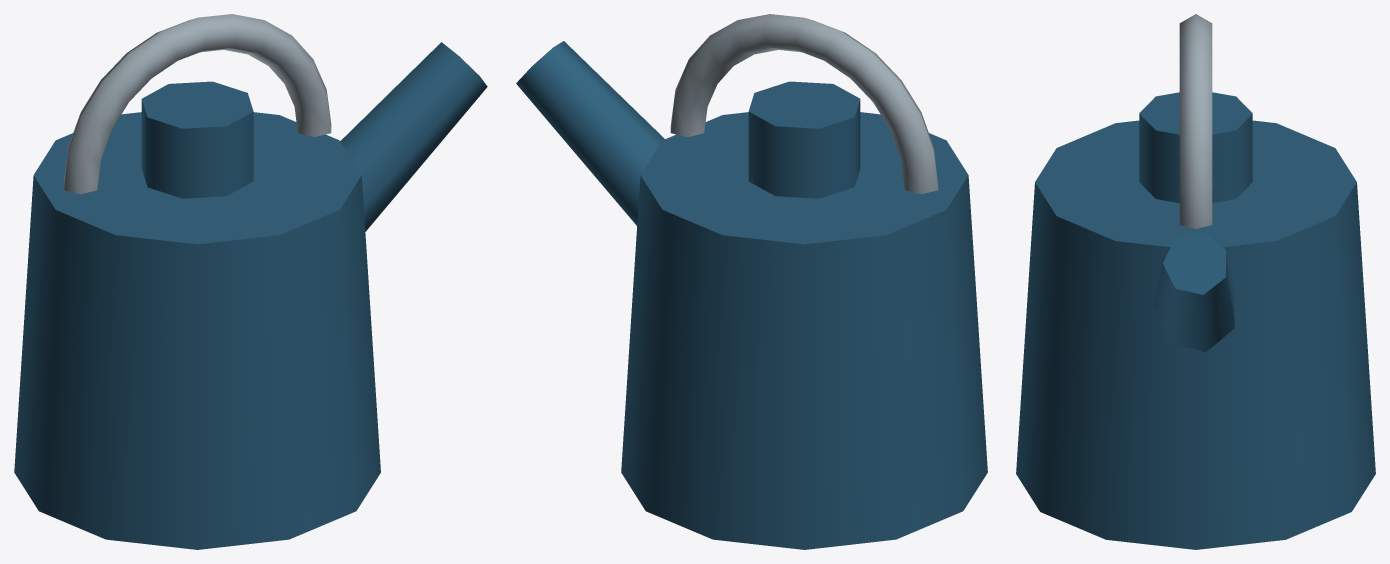
The model's file is can.glb.
3 views of the same model, side by side, from view 1: azimuth 30°, elevation 25°; view 2: azimuth 150°, elevation 25°; view 3: azimuth 270°, elevation 25° (orthographic).
Parts seen in each view (by area): view 1: can; view 2: can; view 3: can.
Part boxes in pixels (x1=…): can: x1=14, y1=14, x2=487, y2=549; can: x1=516, y1=14, x2=987, y2=549; can: x1=1016, y1=14, x2=1375, y2=549.
Bounding box in the file's own units: 0.5287 × 0.52 × 0.38.
